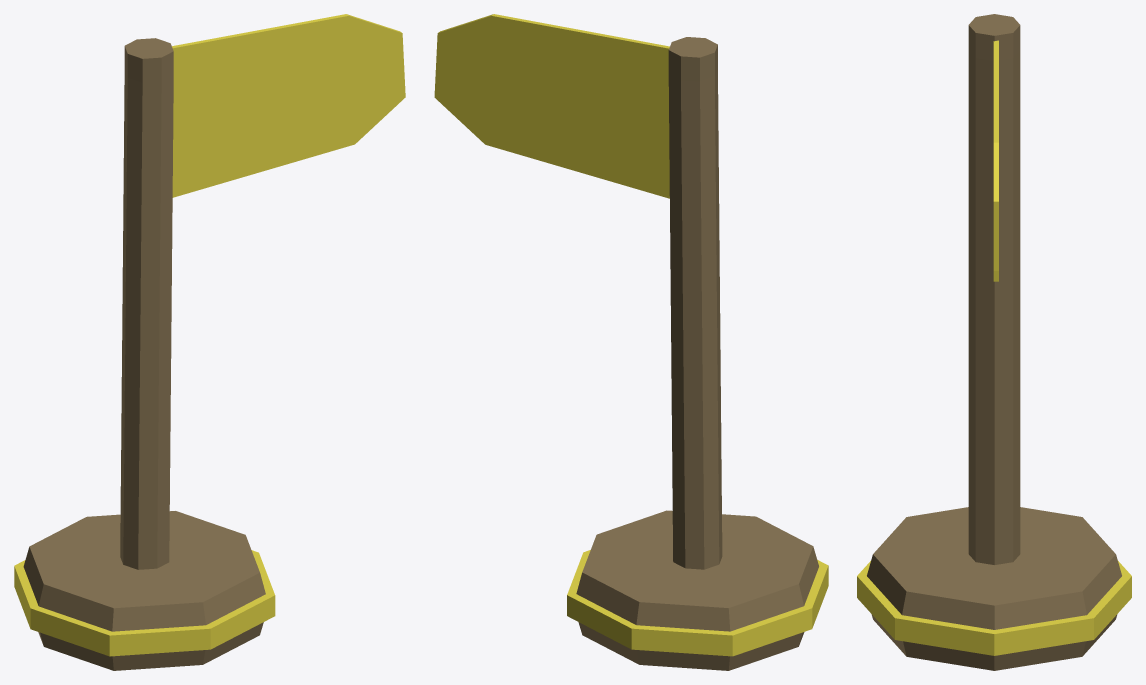
File: SM_GuildBanner.fbx
3 renders of one model, left to right at view 1: azimuth 30°, elevation 25°; view 2: azimuth 150°, elevation 25°; view 3: azimuth 270°, elevation 25°, orthographic. The views are drawn at different scales.
Parts seen in each view (by area): view 1: GuildBanner; view 2: GuildBanner; view 3: GuildBanner.
Part boxes in pixels (left/top/right/bottom): GuildBanner: left=14, top=14, right=405, bottom=670; GuildBanner: left=434, top=14, right=828, bottom=670; GuildBanner: left=857, top=14, right=1131, bottom=670.
Bounding box in the file's own units: 131 × 192 × 80.02.
